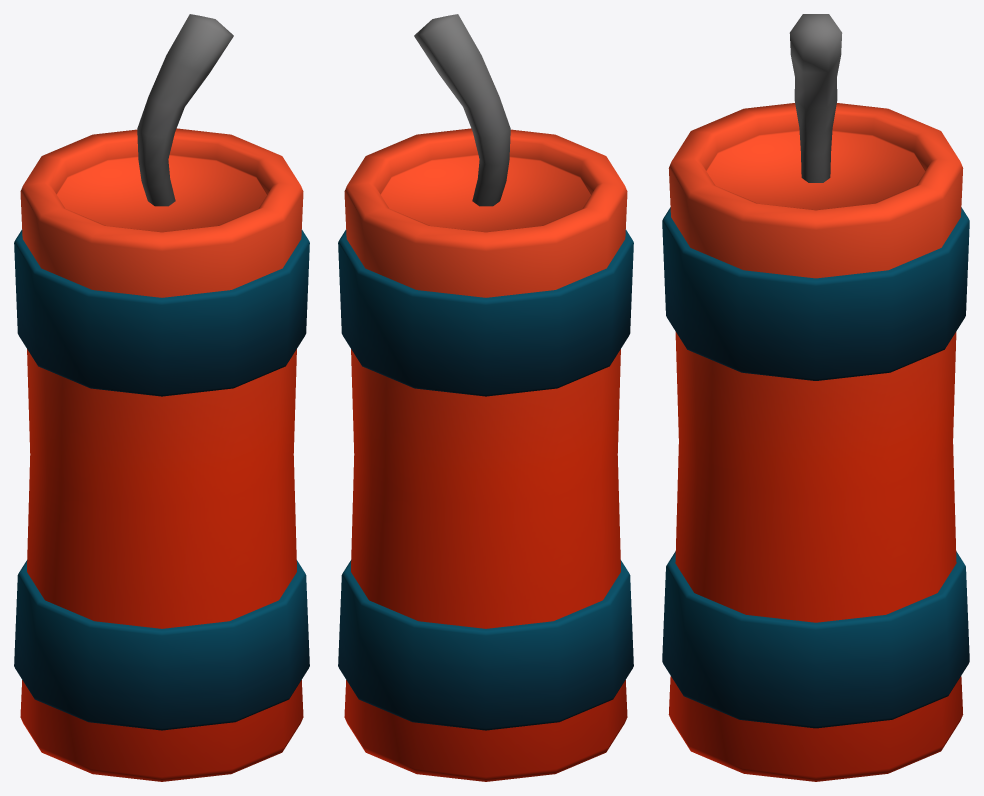
File: Collectable_Dynamite_01.fbx
3 views of the same model, side by side, from view 1: azimuth 30°, elevation 25°; view 2: azimuth 150°, elevation 25°; view 3: azimuth 270°, elevation 25° (orthographic). The views are drawn at different scales.
Parts seen in each view (by area): view 1: Collectable_Dynamite_01; view 2: Collectable_Dynamite_01; view 3: Collectable_Dynamite_01.
Part boxes in pixels (bbox=[...]): Collectable_Dynamite_01: bbox=[14, 14, 309, 781]; Collectable_Dynamite_01: bbox=[338, 14, 633, 781]; Collectable_Dynamite_01: bbox=[662, 14, 969, 781].
Bounding box in the file's own units: 35.79 × 93.29 × 35.79.
